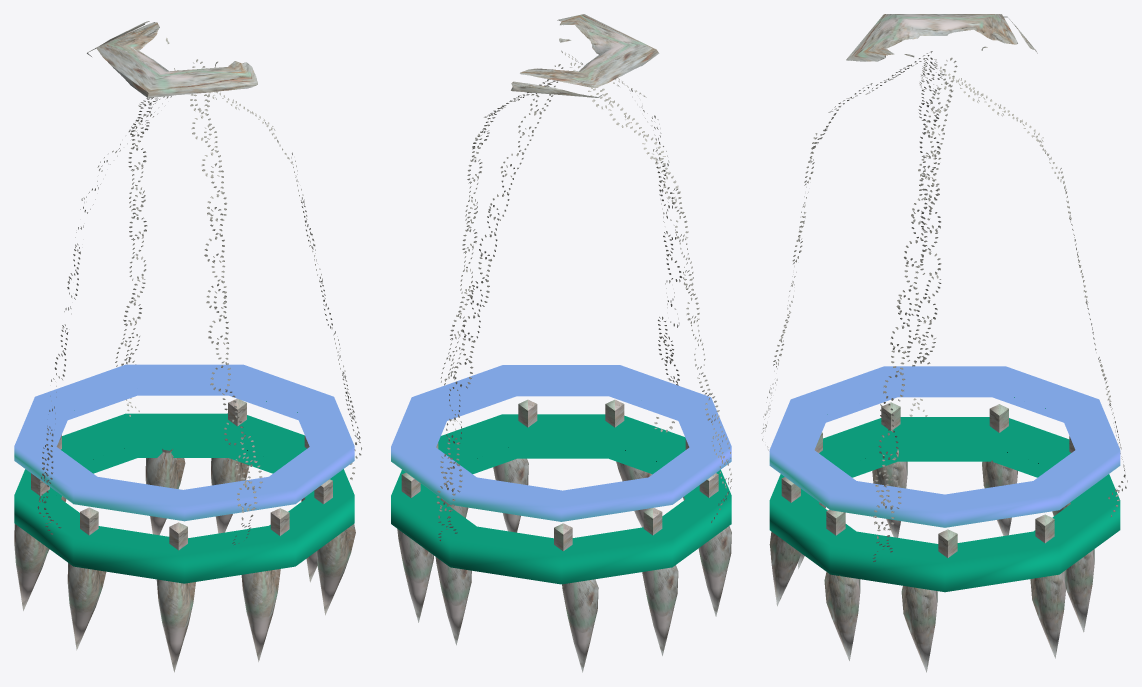
File: Compleate_chan_Textures_Mesh_shaders.fbx
The picture shows the model from 3 angles, left to right: view 1: azimuth 30°, elevation 25°; view 2: azimuth 150°, elevation 25°; view 3: azimuth 270°, elevation 25°; orthographic projection. The views are drawn at different scales.
Visible parts, largest first — view 1: polySurface64; view 2: polySurface64; view 3: polySurface64.
Boxes of the visible parts, x1,y1,x2,y2 form: polySurface64: (14,21,361,672); polySurface64: (391,14,731,672); polySurface64: (761,14,1127,672).
Bounding box in the file's own units: 2.77 × 4.8 × 2.79.
Materials: 3 (1 with a texture image).
